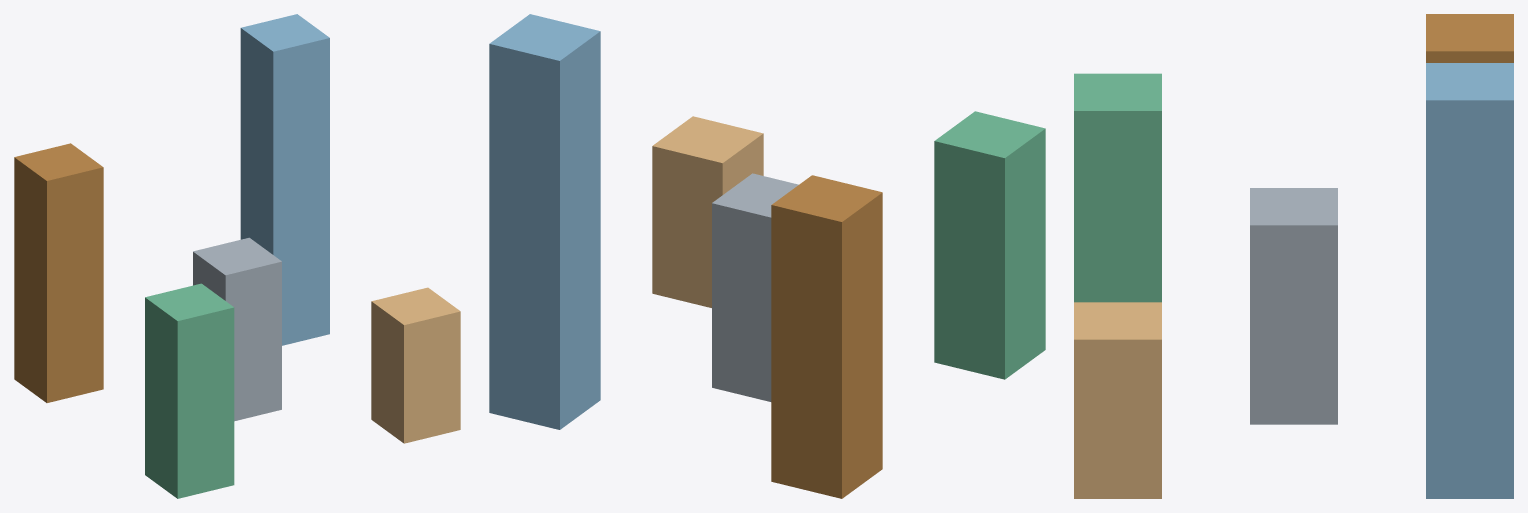
File: city_2000.gltf
The picture shows the model from 3 angles, left to right: view 1: azimuth 30°, elevation 25°; view 2: azimuth 150°, elevation 25°; view 3: azimuth 270°, elevation 25°; orthographic projection. The views are drawn at different scales.
Visible parts, largest first — view 1: 商业中心, 市政大楼, 文化艺术馆, 居民小区A区, 交通枢纽; view 2: 商业中心, 市政大楼, 文化艺术馆, 居民小区A区, 交通枢纽; view 3: 商业中心, 交通枢纽, 文化艺术馆, 居民小区A区, 市政大楼.
Part boxes in pixels (<box>): 商业中心: <box>240,14,329,345</box>; 市政大楼: <box>14,143,103,402</box>; 文化艺术馆: <box>145,283,234,498</box>; 居民小区A区: <box>371,287,460,443</box>; 交通枢纽: <box>193,237,281,421</box>; 商业中心: <box>489,14,600,429</box>; 市政大楼: <box>771,175,882,498</box>; 文化艺术馆: <box>934,111,1045,379</box>; 居民小区A区: <box>652,116,763,307</box>; 交通枢纽: <box>712,173,798,401</box>; 商业中心: <box>1426,63,1513,498</box>; 交通枢纽: <box>1250,188,1337,424</box>; 文化艺术馆: <box>1074,73,1161,302</box>; 居民小区A区: <box>1074,302,1161,498</box>; 市政大楼: <box>1426,14,1513,62</box>.
Bounding box in the file's own units: 20 × 20 × 20.
